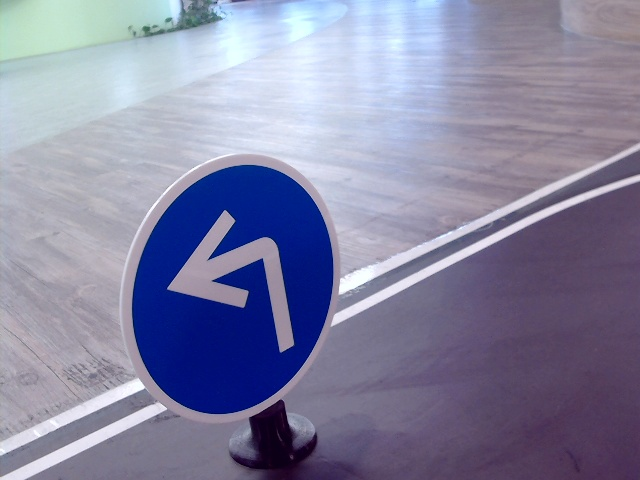turn_left: (178, 209, 303, 363)
